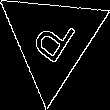P_SW: (25, 9, 79, 71)
